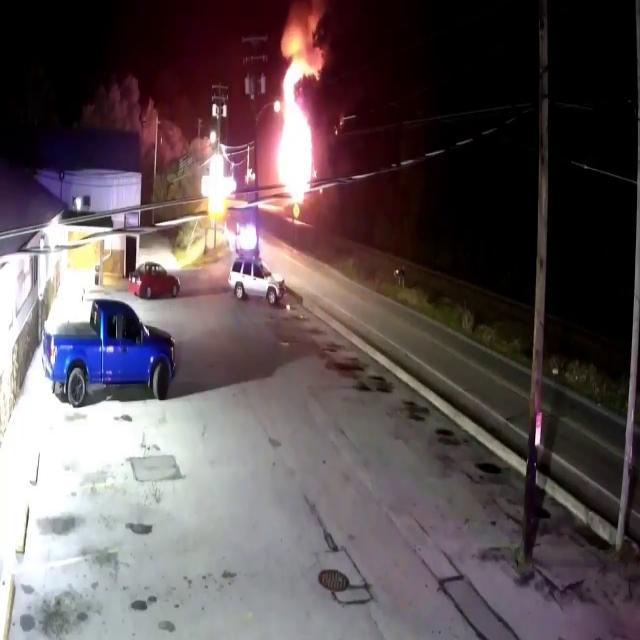Fire: (274, 54, 320, 198)
